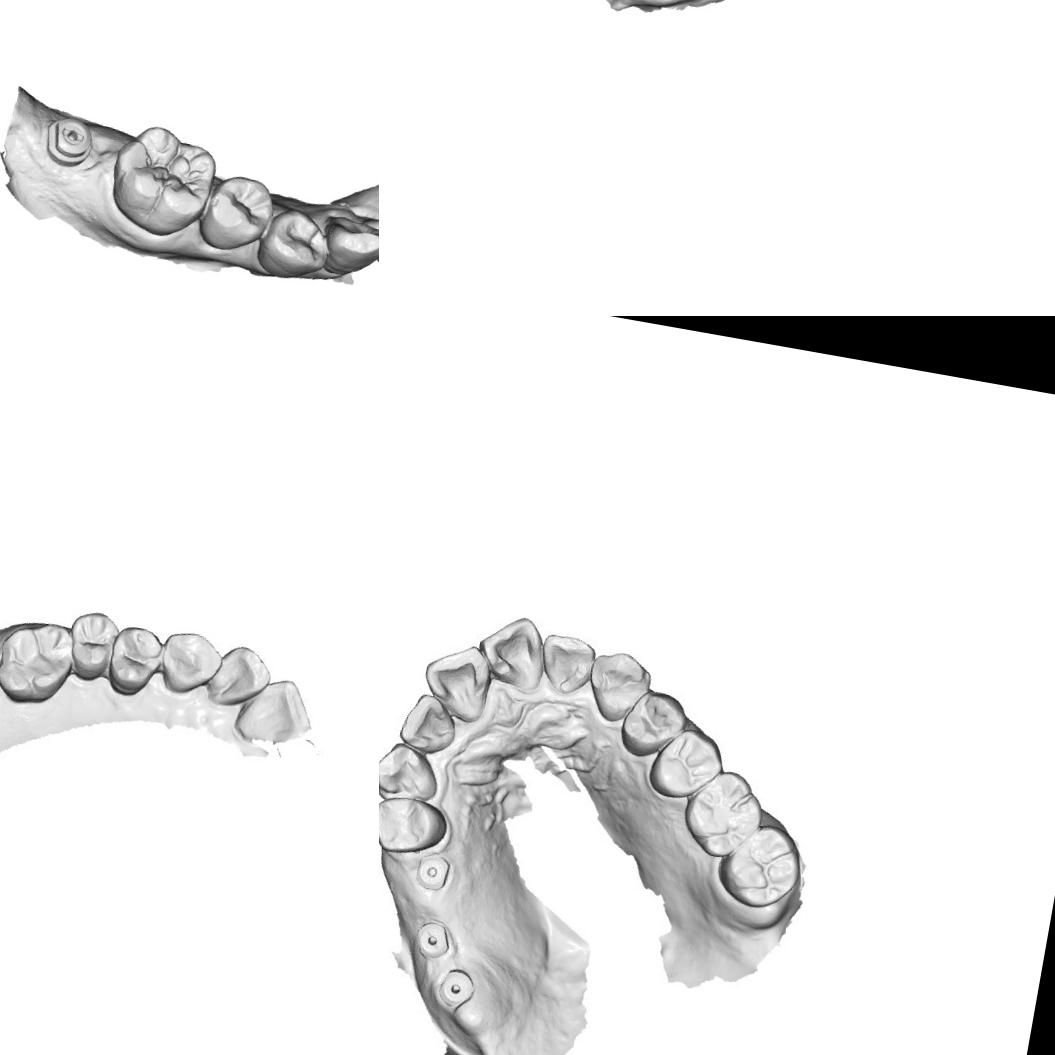canine: (584, 647, 653, 726), (156, 622, 224, 700), (379, 738, 448, 808), (319, 210, 379, 279)
implant: (435, 964, 480, 1016), (414, 848, 454, 892)
implant_minus: (38, 110, 99, 172), (408, 916, 461, 966)
incisor: (228, 671, 318, 754), (416, 640, 496, 724), (206, 636, 277, 716), (474, 610, 546, 684), (398, 690, 463, 759), (541, 632, 594, 694), (363, 214, 379, 277)
molar: (100, 117, 221, 244), (681, 764, 764, 864), (717, 821, 804, 911), (0, 617, 82, 708)
premolar: (194, 167, 281, 261), (254, 201, 336, 285), (98, 622, 162, 703), (379, 794, 450, 860), (654, 730, 718, 798), (66, 607, 120, 683), (625, 690, 685, 749)
